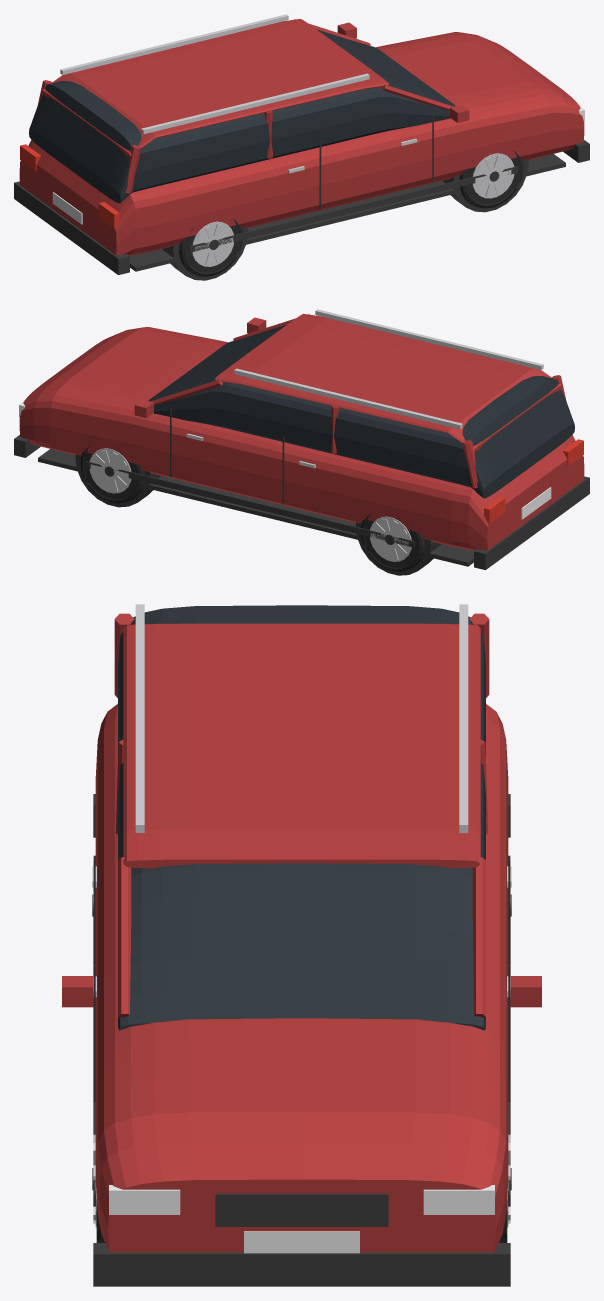
Rendered from SM_Car_Estate.fbx.
3 renders of one model, top to bottom at view 1: azimuth 30°, elevation 25°; view 2: azimuth 150°, elevation 25°; view 3: azimuth 270°, elevation 25°, orthographic. The views are drawn at different scales.
Parts seen in each view (by area): view 1: SM_Car_Estate; view 2: SM_Car_Estate; view 3: SM_Car_Estate.
Boxes of the visible parts, <box> form: SM_Car_Estate: <box>14,14,589,280</box>; SM_Car_Estate: <box>14,309,589,575</box>; SM_Car_Estate: <box>62,604,541,1286</box>.
Size of the model in its own units: 2.15 by 4.88 by 1.57.
